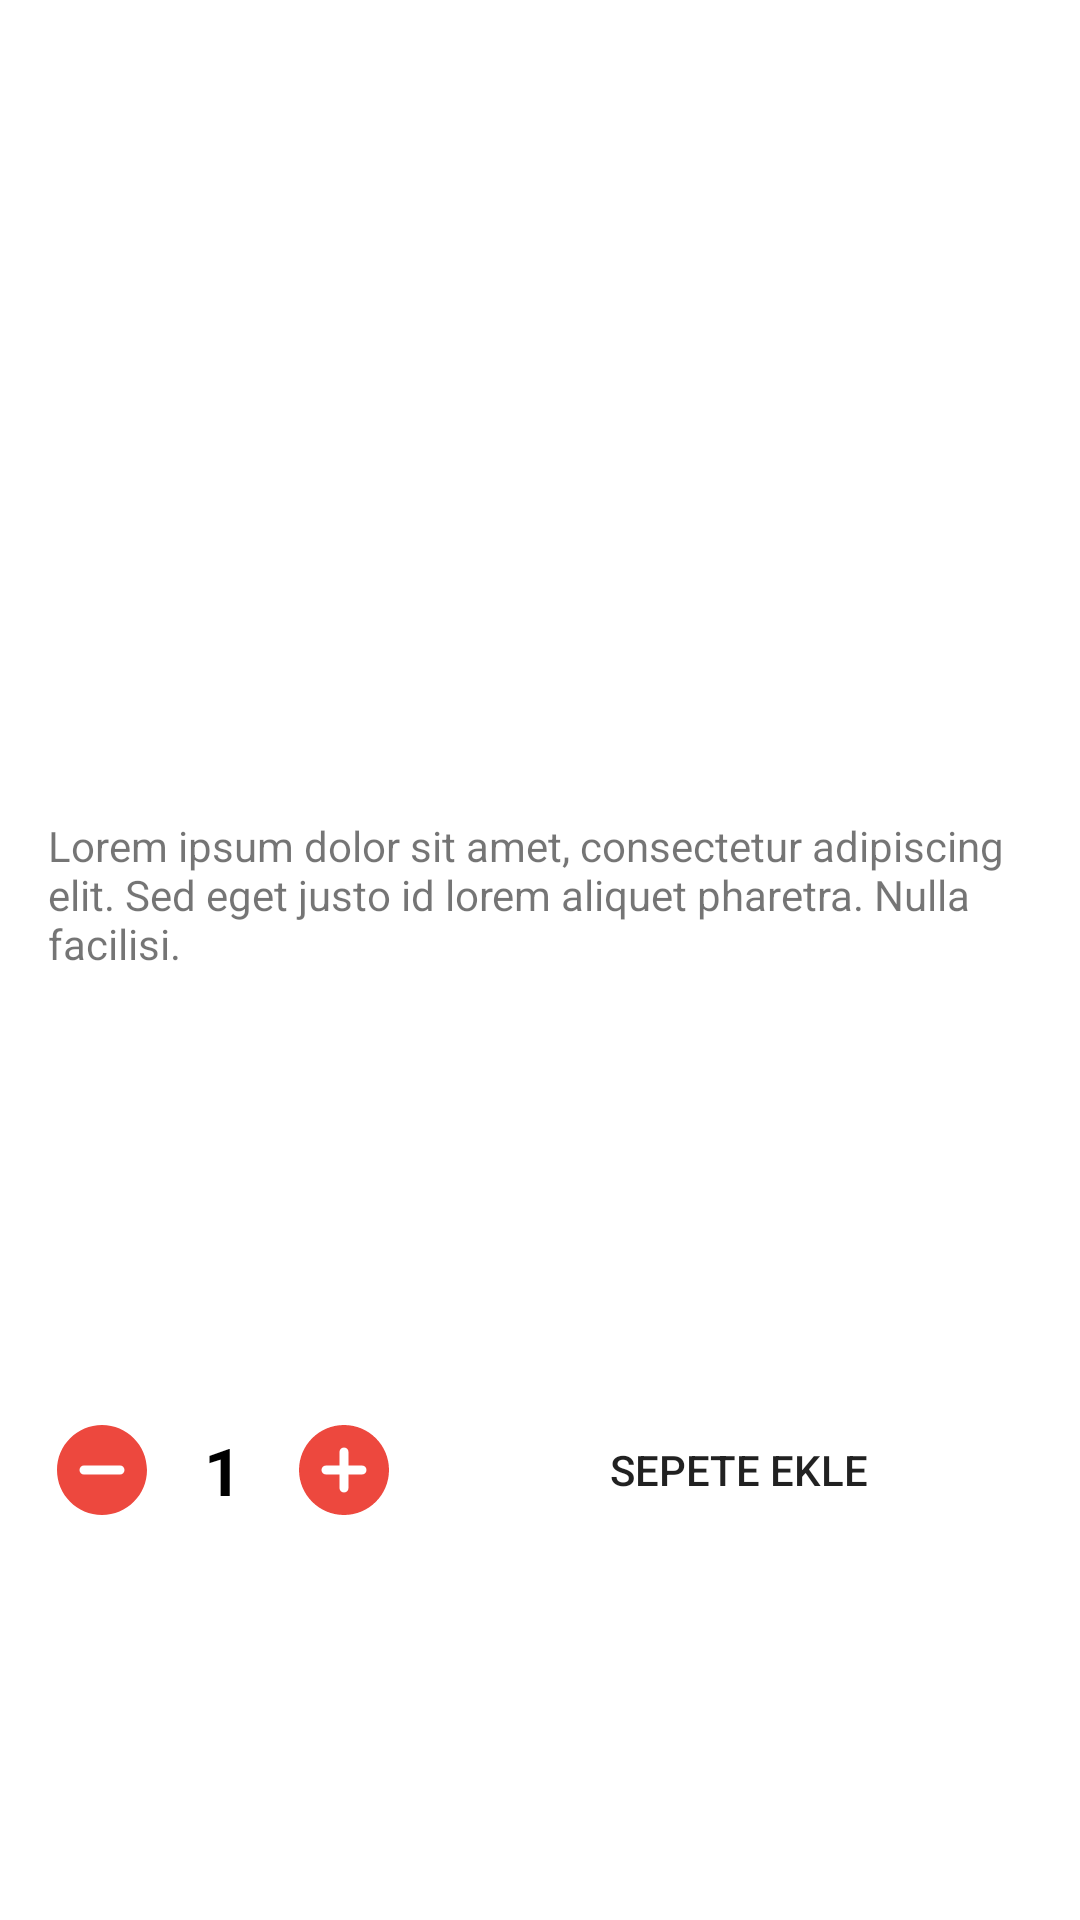

Named icons in this screenshot (1080px×1920px) and their centers, (x,y):
add round: (344,1470)
decrease round: (102,1470)
